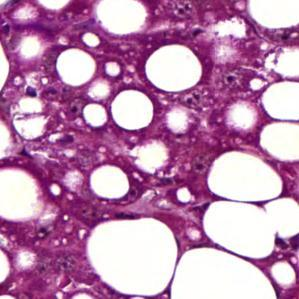steatosis: (145, 41, 200, 96), (110, 90, 154, 130), (90, 164, 131, 203)
